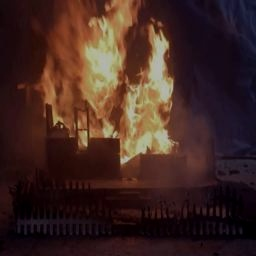fire: (24, 0, 187, 165)
